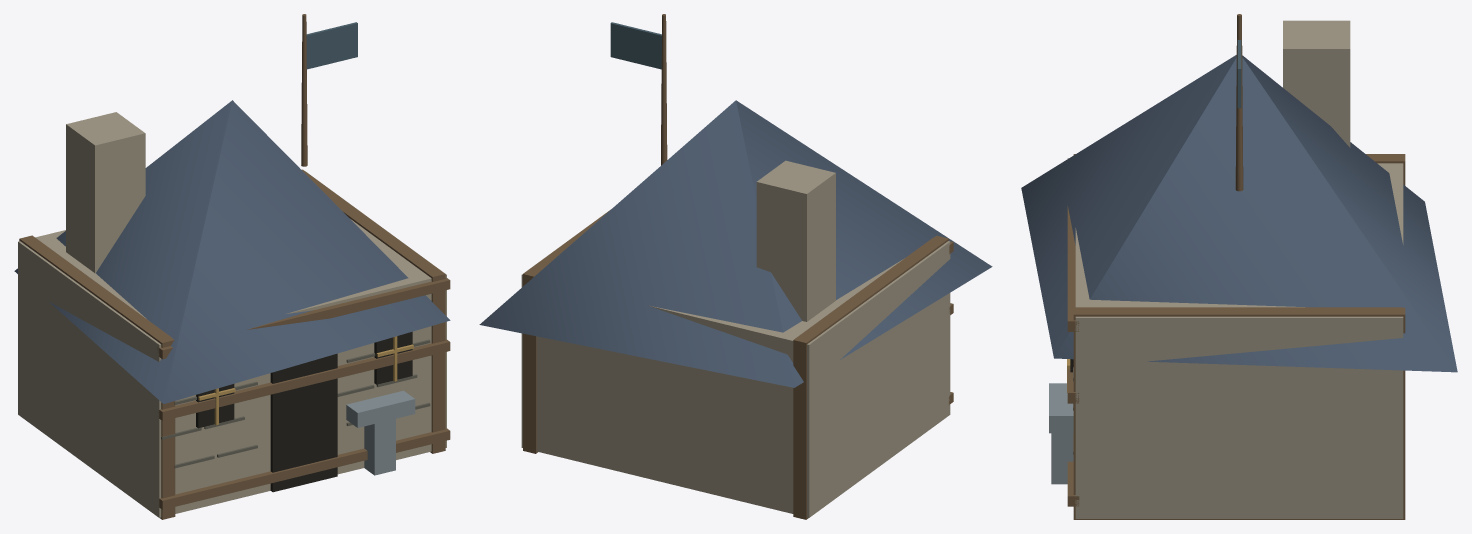
The model's file is b-smithy-french.glb.
3 renders of one model, left to right at view 1: azimuth 30°, elevation 25°; view 2: azimuth 150°, elevation 25°; view 3: azimuth 270°, elevation 25°, orthographic. The views are drawn at different scales.
Parts seen in each view (by area): view 1: Structure; view 2: Structure; view 3: Structure.
Part boxes in pixels (x1,y1,x2,y2): Structure: [14, 14, 450, 519]; Structure: [479, 14, 992, 519]; Structure: [1021, 14, 1457, 519].
Bounding box in the file's own units: 4.53 × 5.33 × 4.53.
